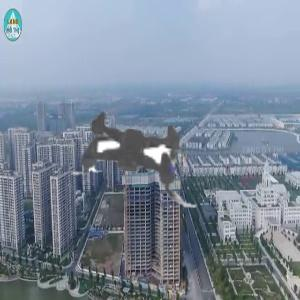drone: (7, 27, 249, 269)
